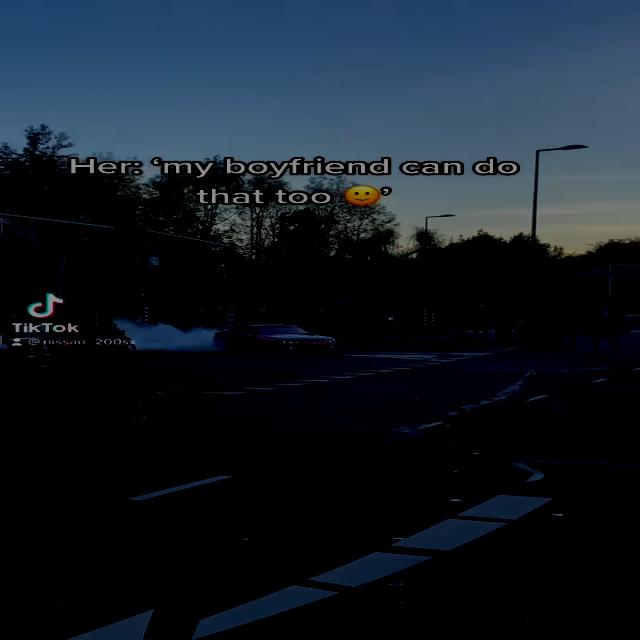car: (217, 322, 345, 359)
